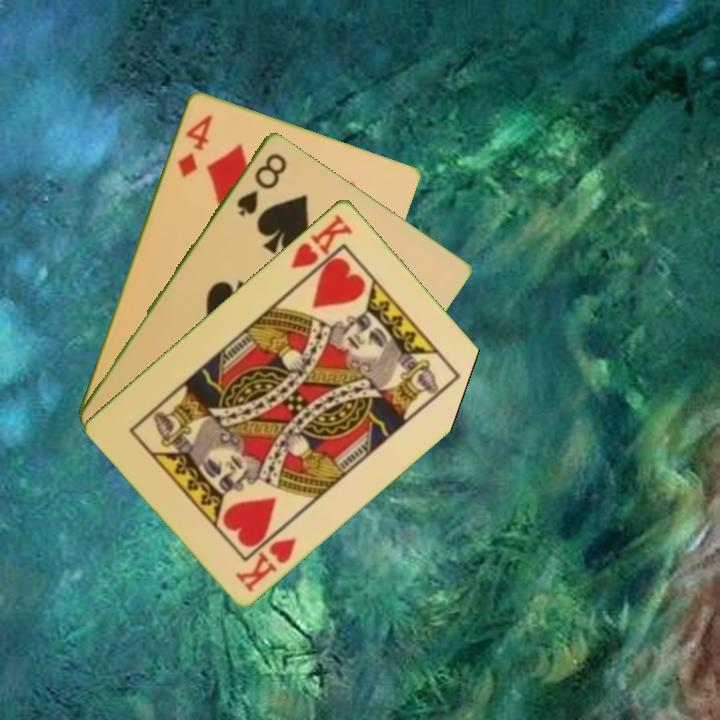4d: (173, 110, 215, 180)
8s: (233, 149, 290, 219)
Kh: (287, 210, 356, 284), (231, 533, 300, 595)
